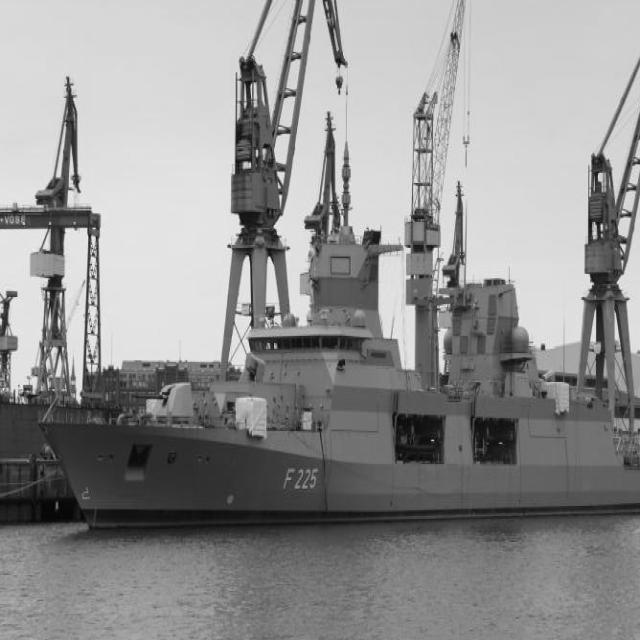Fragata: (38, 122, 640, 539)
